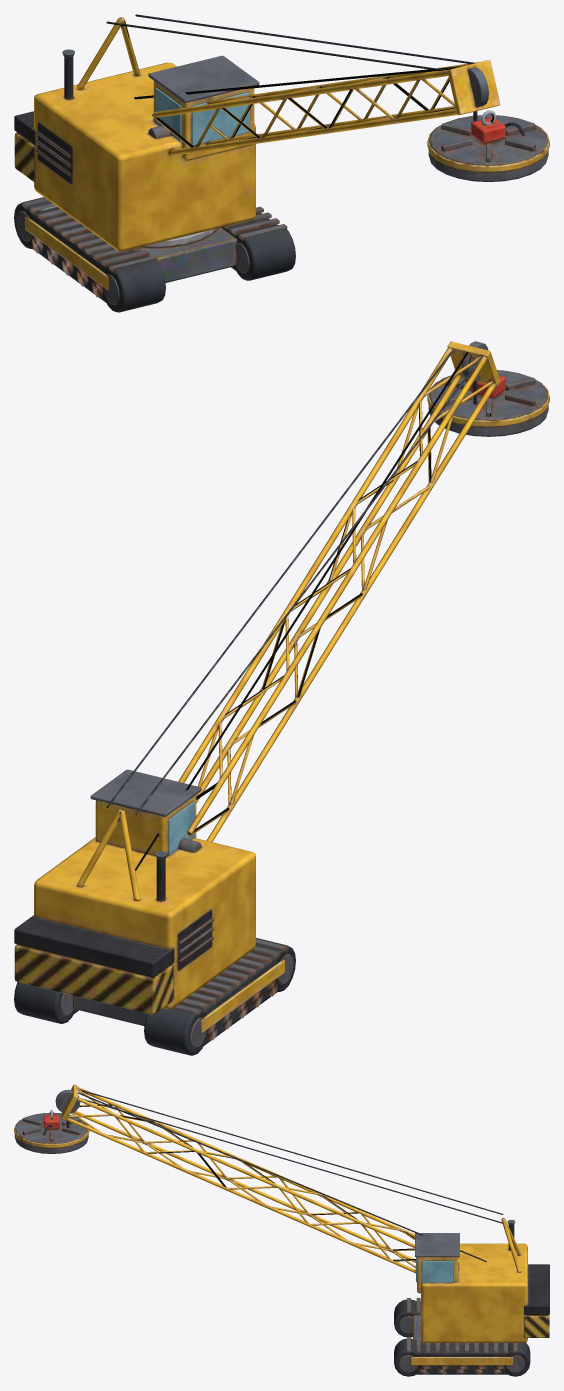
Rendered from crane.glb.
3 renders of one model, top to bottom at view 1: azimuth 30°, elevation 25°; view 2: azimuth 150°, elevation 25°; view 3: azimuth 270°, elevation 25°, orthographic. The views are drawn at different scales.
Parts seen in each view (by area): view 1: cab, base, magnet; view 2: cab, base, magnet; view 3: cab, base, magnet.
Boxes of the visible parts, x1,y1,x2,y2 form: cab: (14, 14, 500, 251); base: (14, 197, 295, 312); magnet: (427, 110, 549, 181); cab: (14, 341, 500, 1014); base: (14, 938, 295, 1055); magnet: (427, 370, 549, 436); cab: (55, 1084, 549, 1342); base: (394, 1298, 530, 1376); magnet: (14, 1109, 89, 1153).
Size of the model in its own units: 3.07 by 7.02 by 13.06.
Materials: 1 (1 with a texture image).
